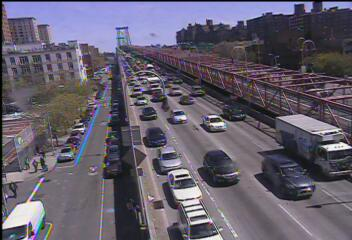neg: (146, 130, 172, 164), (207, 133, 230, 164), (196, 34, 219, 63), (307, 37, 329, 67), (84, 191, 106, 220), (89, 123, 110, 151), (304, 167, 325, 194), (128, 39, 148, 67), (230, 193, 250, 220), (245, 78, 264, 103), (31, 41, 50, 66), (293, 122, 309, 144), (173, 64, 189, 85), (319, 112, 335, 133), (261, 146, 276, 166), (86, 51, 101, 71), (240, 29, 255, 49), (41, 80, 55, 99), (144, 197, 153, 209)
pos: (3, 177, 21, 201), (32, 155, 48, 177), (26, 155, 42, 176), (19, 155, 34, 176), (33, 142, 43, 156)
